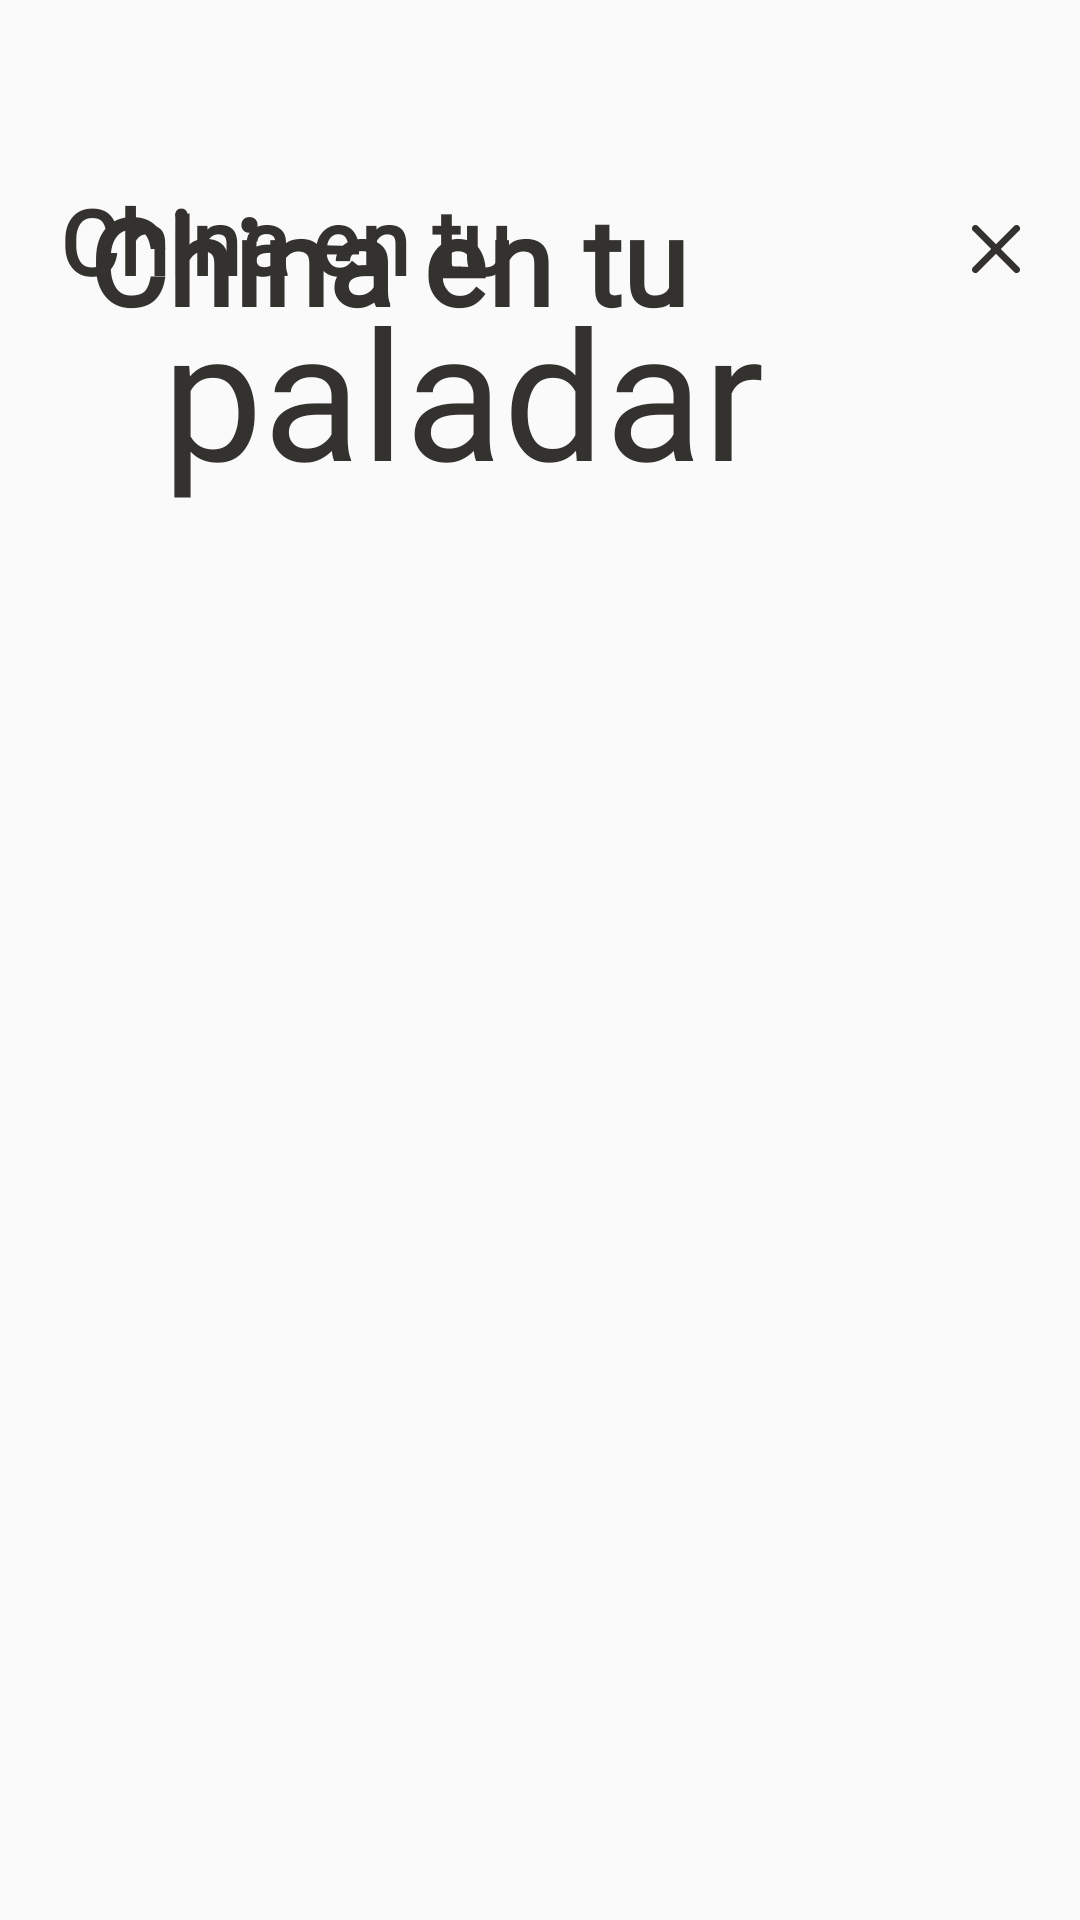

Icons on this 1080x1920 Android screen, each with its box as (x1, y1, x2, y2):
cerrar: (972, 225, 1020, 273)
